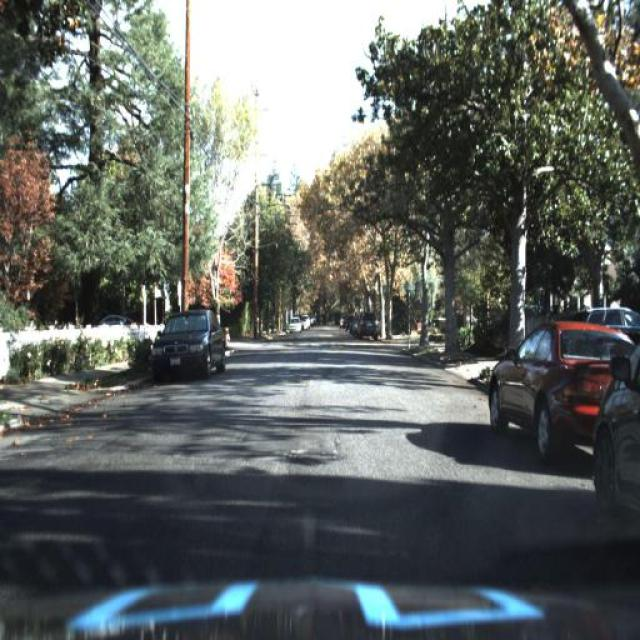car: (486, 314, 640, 462), (151, 306, 228, 376)
